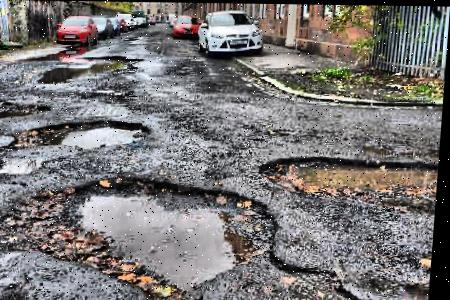pothole: (1, 171, 291, 300), (258, 152, 440, 199), (4, 116, 154, 154), (81, 53, 144, 74), (36, 62, 84, 87), (0, 100, 52, 122)
